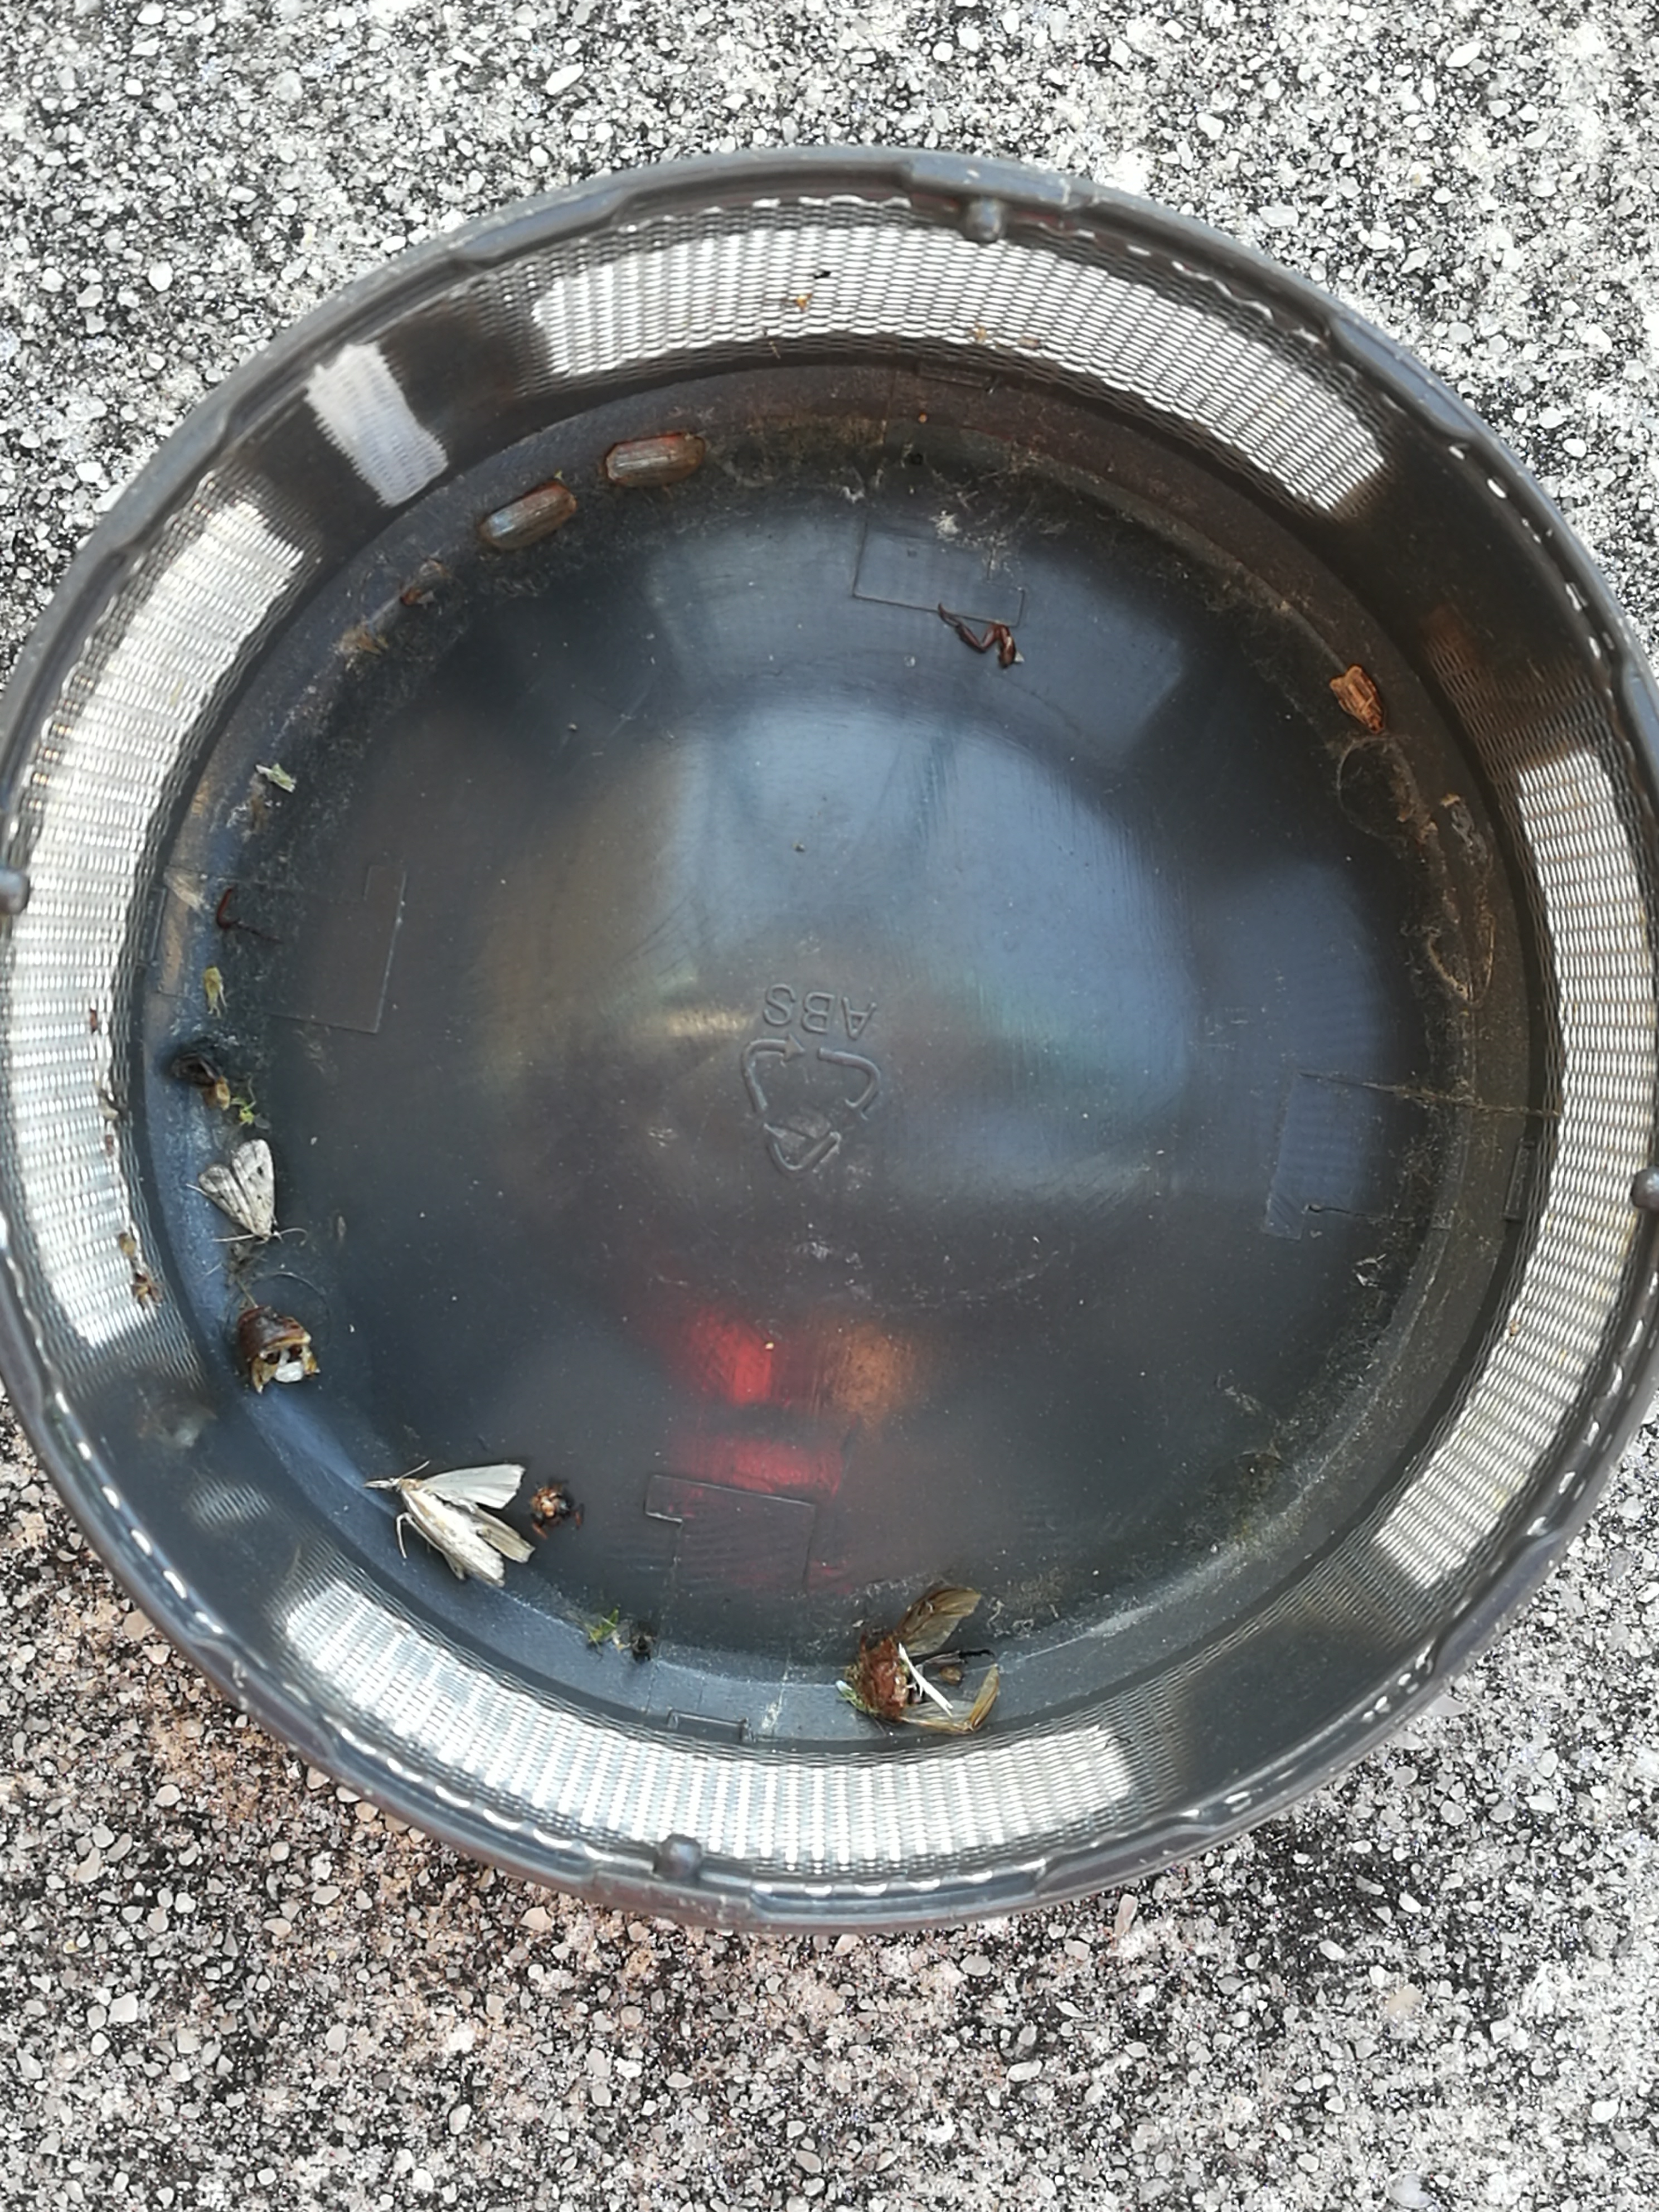beetle: (859, 1658, 906, 1716)
moth: (364, 1461, 537, 1588), (200, 1139, 274, 1240), (1330, 667, 1385, 732)
